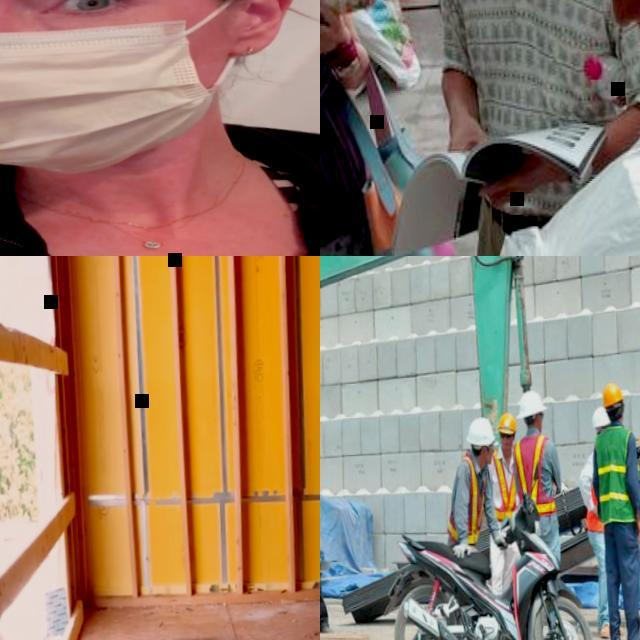helmet: (518, 387, 546, 417), (468, 416, 497, 444), (498, 412, 518, 434), (604, 382, 624, 404), (594, 406, 612, 428)
vest: (442, 448, 492, 547), (594, 422, 637, 521), (514, 430, 560, 516), (489, 443, 522, 520), (584, 480, 606, 532)
